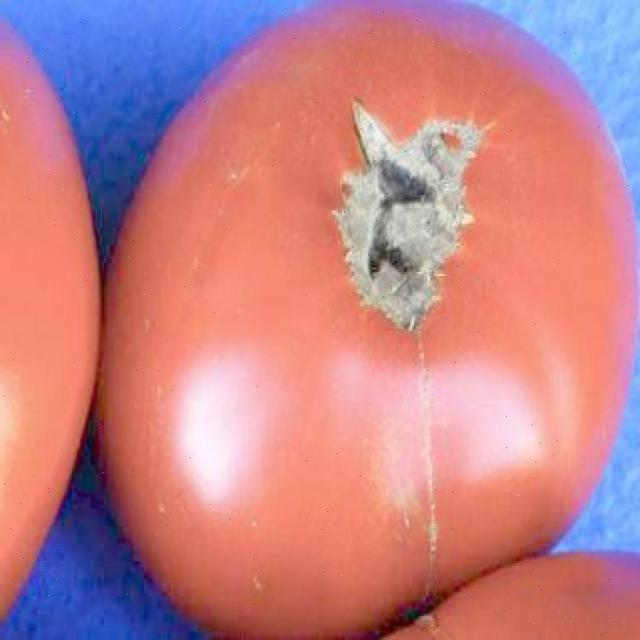Blossom End Rot Fruit: (220, 60, 334, 224)
